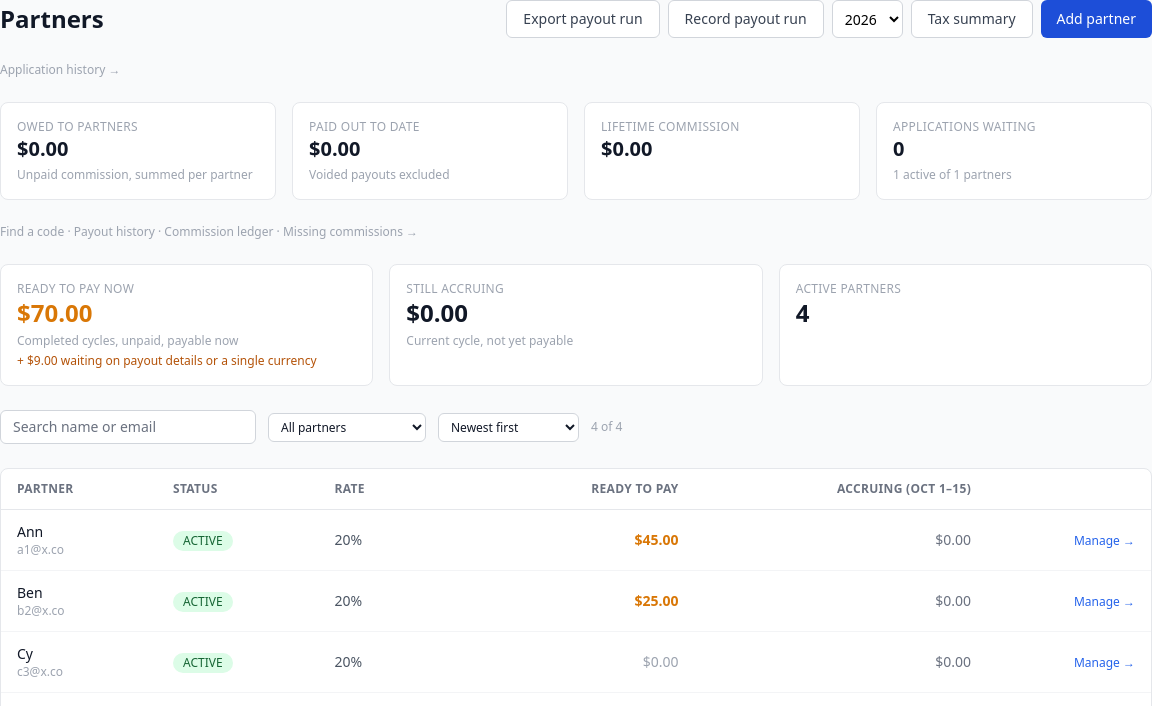
Test: Record payout run › sends exactly the listed amount and the details timestamp it saw, then shows a per-partner result
Click the button "Record payout run": [746, 19] box [668,0,824,38]
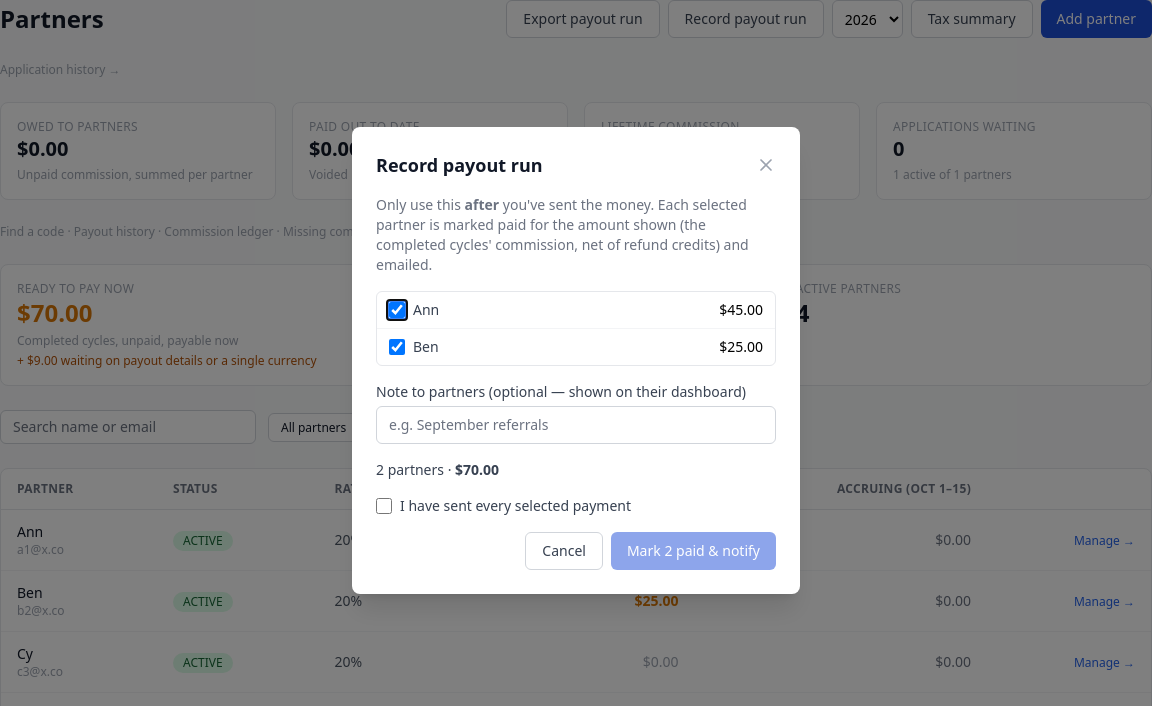
Click the checkbox labelled "I have sent every selected payment": [384, 506] box [376,498,392,514]
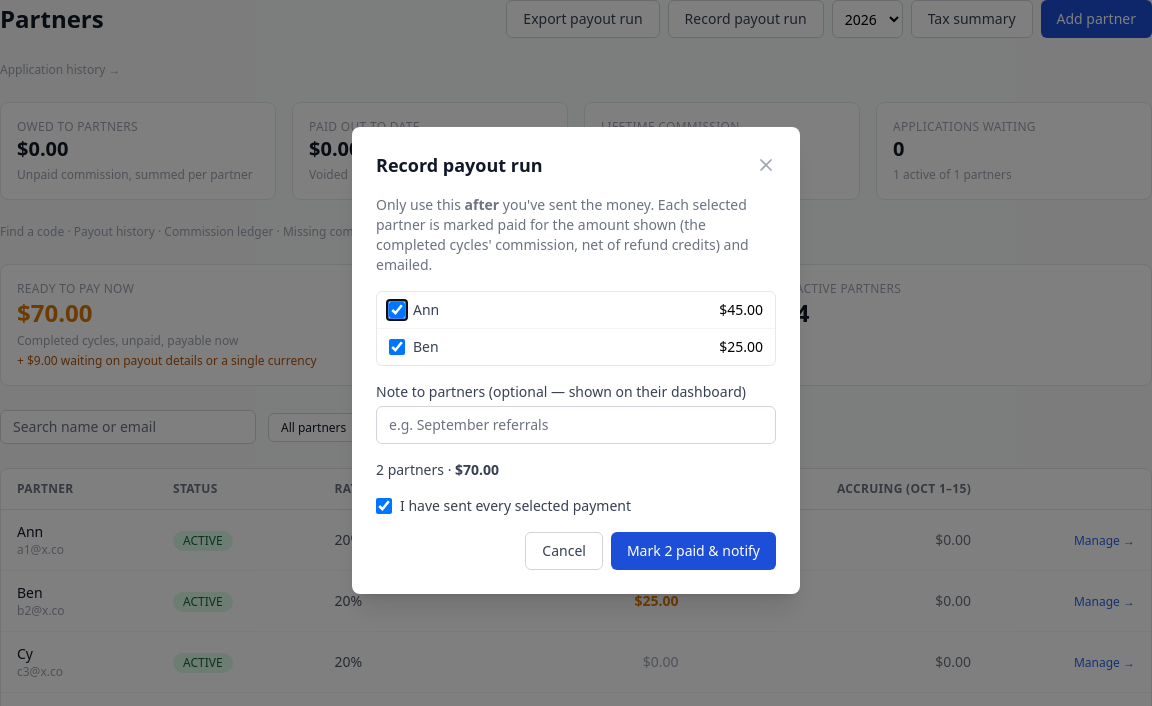
Click the button "Mark 2 paid & notify": [693, 550] box [611,532,776,570]
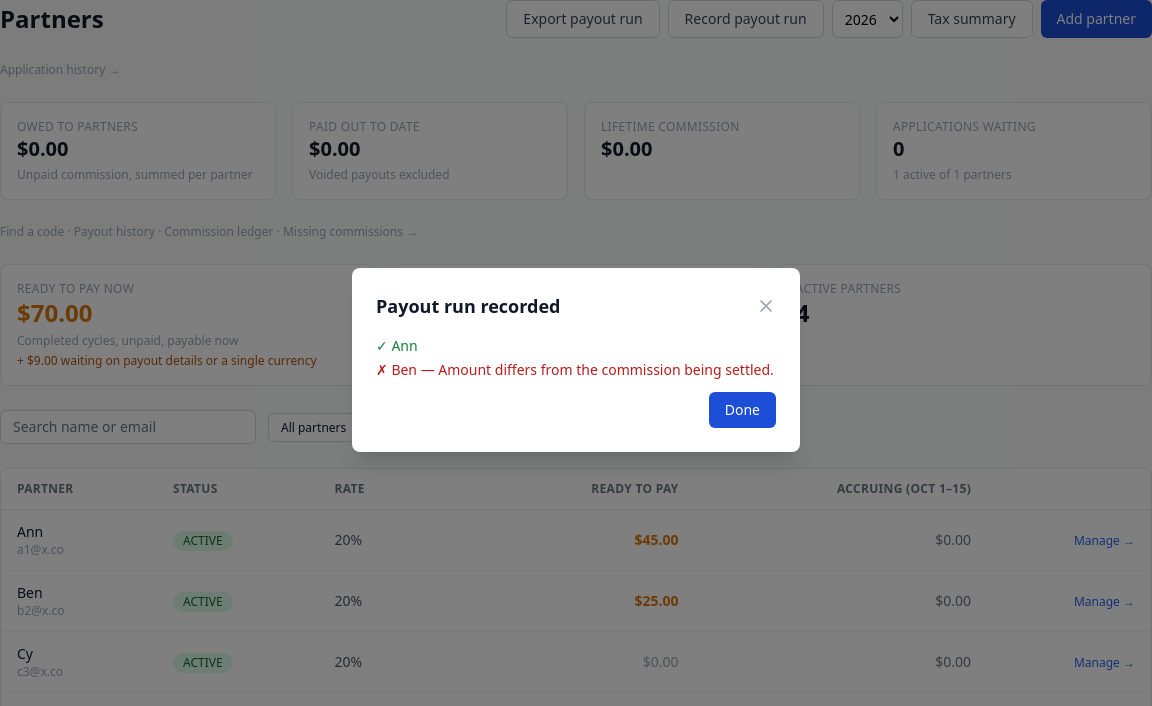
Expected: the element with test id "run-results" shows "✓ Ann", [376,336,776,428]
Expected: the element with test id "run-results" shows "✗ Ben — Amount differs", [376,336,776,428]
